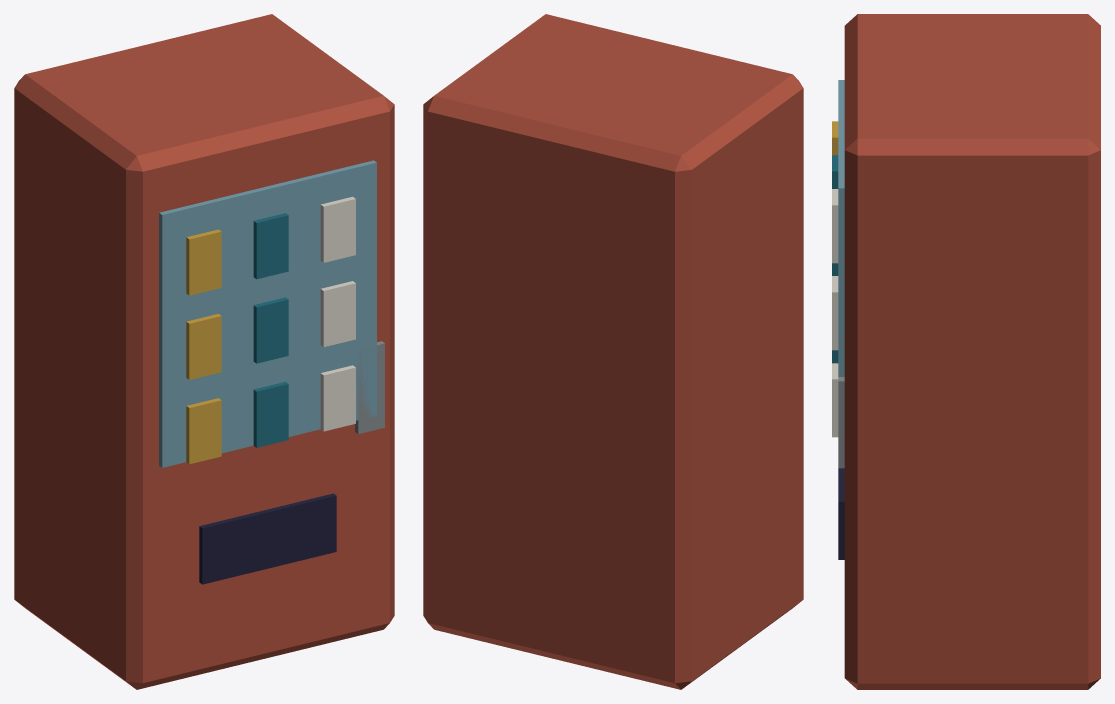
Rendered from vending.glb.
3 views of the same model, side by side, from view 1: azimuth 30°, elevation 25°; view 2: azimuth 150°, elevation 25°; view 3: azimuth 270°, elevation 25° (orthographic). The views are drawn at different scales.
Visible parts, largest first — view 1: vending; view 2: vending; view 3: vending.
Boxes of the visible parts, <box> form: vending: <box>14,14,394,689</box>; vending: <box>423,14,803,689</box>; vending: <box>832,14,1100,689</box>.
Bounding box in the file's own units: 1 × 1.9 × 0.8399.
